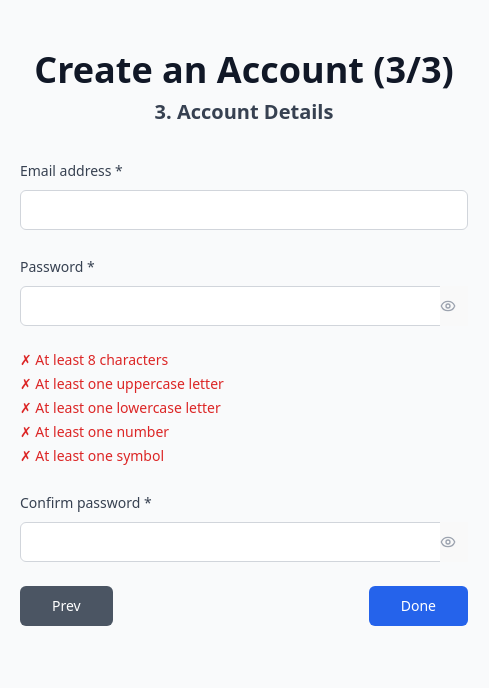
Scenario: CreateAccount3 › shows error when passwords don't match
// Fill out email and mismatching passwords
Type "john@example.com" into the field labelled "Email address *" at (244, 210), box [20, 190, 468, 230]
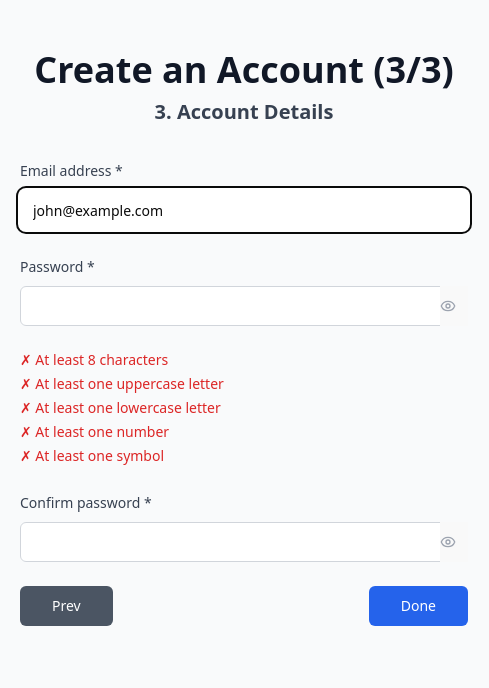
Type "ValidPass1!" into the password field labelled "Password *" at (244, 306), box [20, 286, 468, 326]
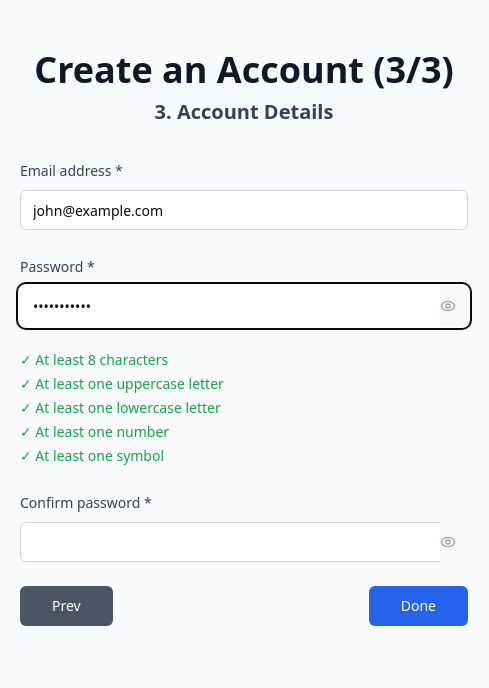
Type "DifferentPass1!" into the password field labelled "Confirm password *" at (244, 542), box [20, 522, 468, 562]
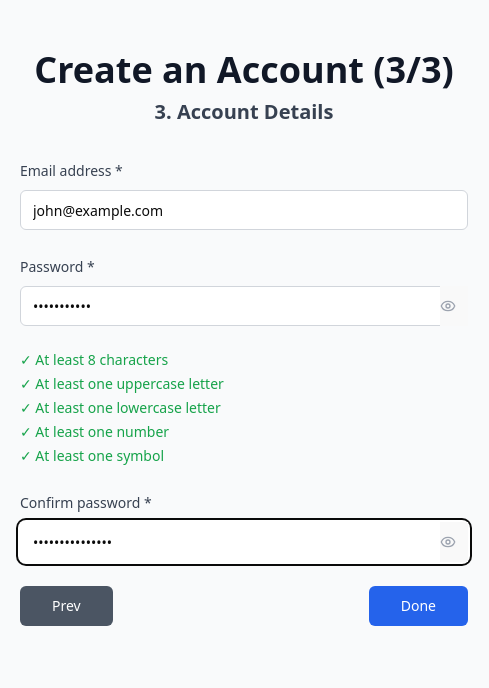
// Click done button to submit form
Click the button "Done" at (418, 606), box [369, 586, 468, 626]
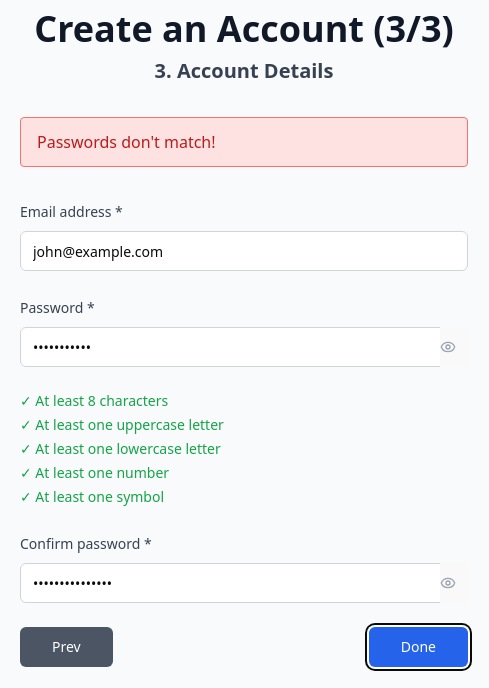
Expected: the text "Passwords don't match!" is shown, [37, 131, 216, 153]
